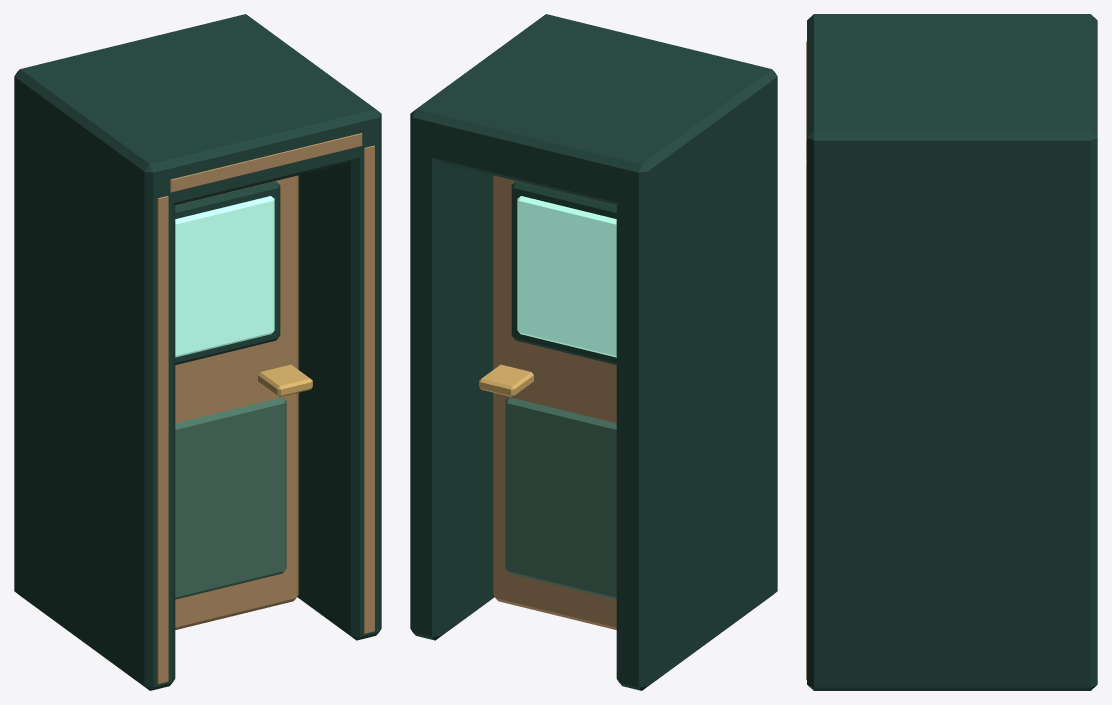
Rendered from door.glb.
The picture shows the model from 3 angles, left to right: view 1: azimuth 30°, elevation 25°; view 2: azimuth 150°, elevation 25°; view 3: azimuth 270°, elevation 25°; orthographic projection. The views are drawn at different scales.
Parts seen in each view (by area): view 1: deep_Asset_door, green_DoorLeaf, wood_DoorLeaf, screen_DoorLeaf, wood_Asset_door, deep_DoorLeaf, brass_DoorLeaf; view 2: deep_Asset_door, green_DoorLeaf, wood_DoorLeaf, screen_DoorLeaf, deep_DoorLeaf, brass_DoorLeaf; view 3: deep_Asset_door, wood_Asset_door.
Boxes of the visible parts, box(x1,y1,x2,y2) form: deep_Asset_door: box(14, 14, 381, 690); green_DoorLeaf: box(175, 397, 286, 599); wood_DoorLeaf: box(175, 175, 298, 629); screen_DoorLeaf: box(175, 196, 274, 357); wood_Asset_door: box(157, 133, 374, 684); deep_DoorLeaf: box(175, 181, 280, 364); brass_DoorLeaf: box(258, 364, 312, 397); deep_Asset_door: box(410, 14, 777, 690); green_DoorLeaf: box(505, 397, 616, 599); wood_DoorLeaf: box(493, 175, 616, 629); screen_DoorLeaf: box(517, 196, 616, 357); deep_DoorLeaf: box(511, 181, 616, 364); brass_DoorLeaf: box(479, 364, 533, 397); deep_Asset_door: box(807, 14, 1097, 690); wood_Asset_door: box(806, 41, 806, 679).
Size of the model in its own units: 1 by 2.12 by 1.
